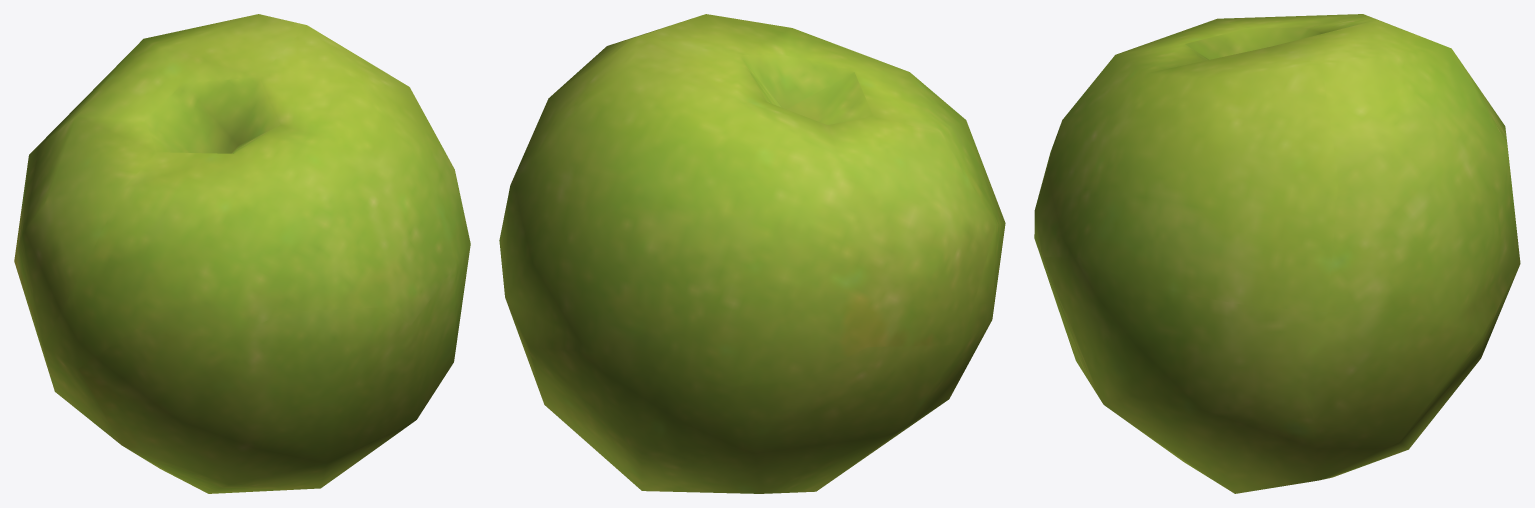
Rendered from SM_Food_SM_Apple_02.fbx.
3 views of the same model, side by side, from view 1: azimuth 30°, elevation 25°; view 2: azimuth 150°, elevation 25°; view 3: azimuth 270°, elevation 25° (orthographic). The views are drawn at different scales.
Visible parts, largest first — view 1: SM_Food_SM_Apple_02_LOD0; view 2: SM_Food_SM_Apple_02_LOD0; view 3: SM_Food_SM_Apple_02_LOD0.
Boxes of the visible parts, x1=… form: SM_Food_SM_Apple_02_LOD0: x1=14, y1=14, x2=470, y2=493; SM_Food_SM_Apple_02_LOD0: x1=499, y1=14, x2=1005, y2=493; SM_Food_SM_Apple_02_LOD0: x1=1034, y1=14, x2=1520, y2=493.
Size of the model in its own units: 8.95 by 8.92 by 8.6.
